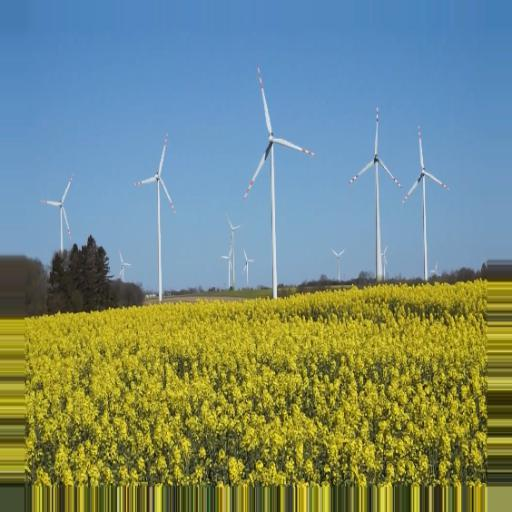wind turbine: (242, 62, 316, 297), (348, 106, 404, 283), (132, 131, 179, 300), (402, 124, 451, 279), (37, 173, 76, 254), (224, 213, 240, 290)
